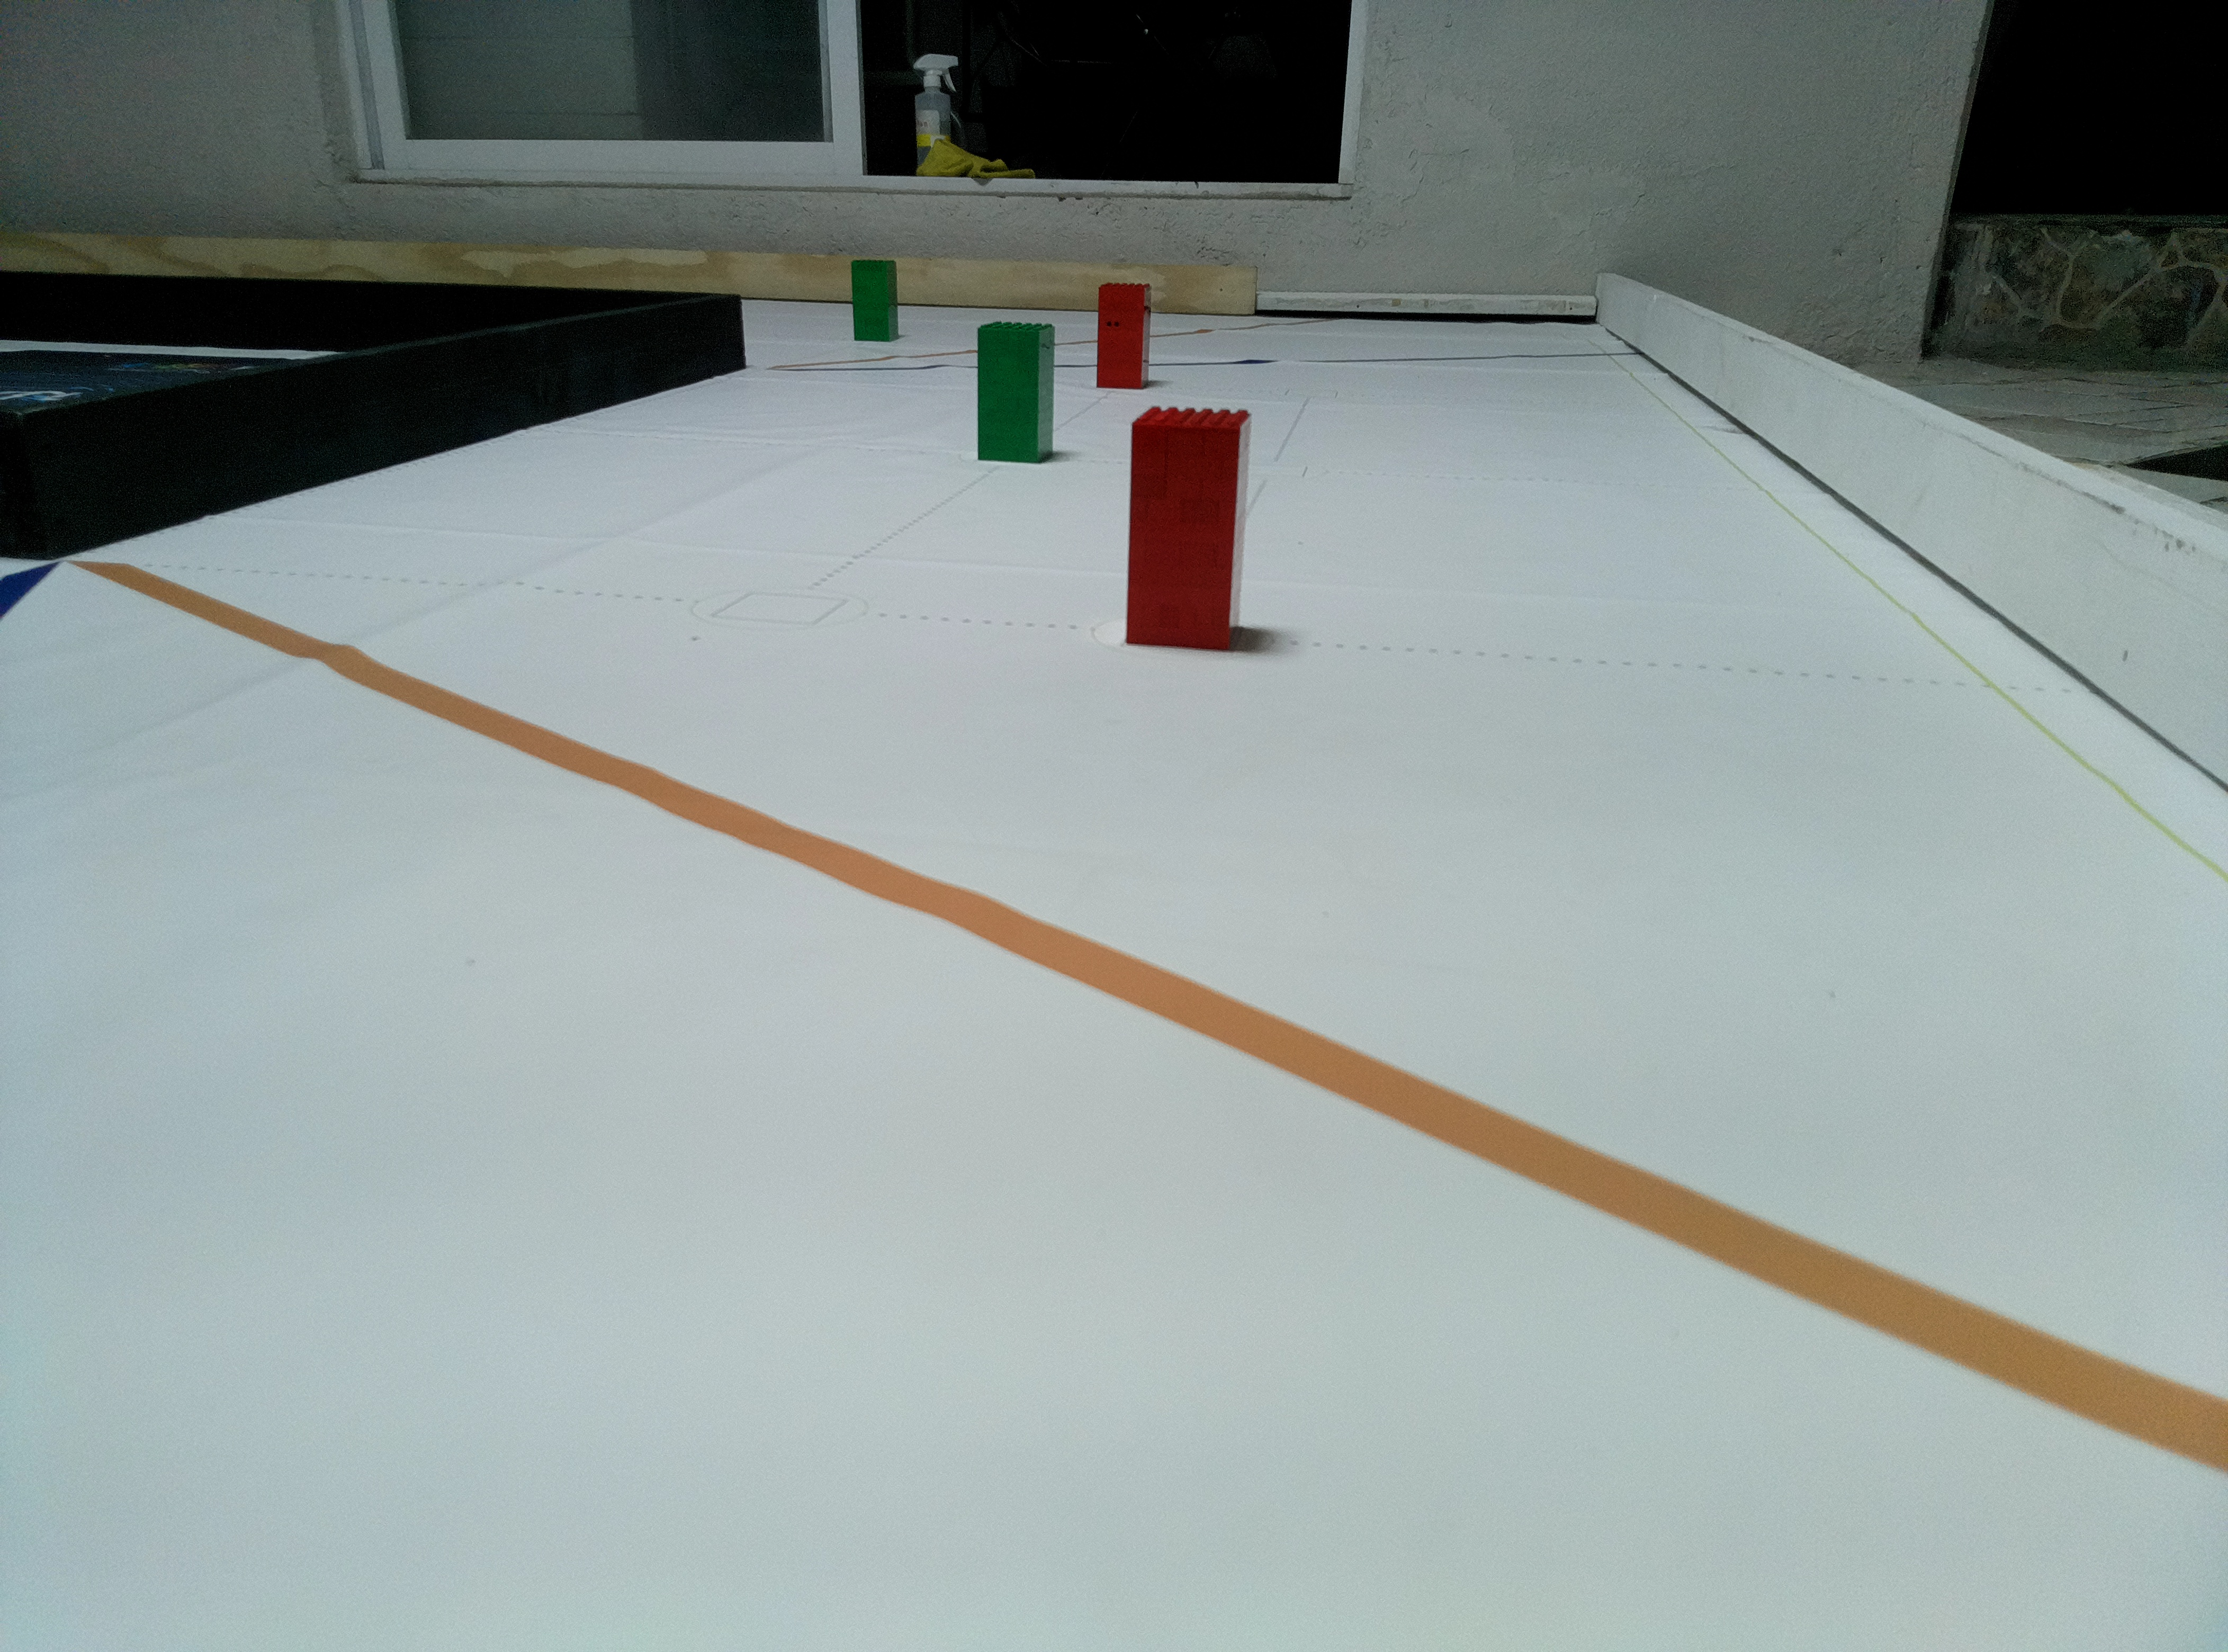greenbox: (975, 318, 1053, 463), (850, 259, 899, 344)
redbox: (1124, 404, 1255, 646), (1097, 278, 1154, 389)
